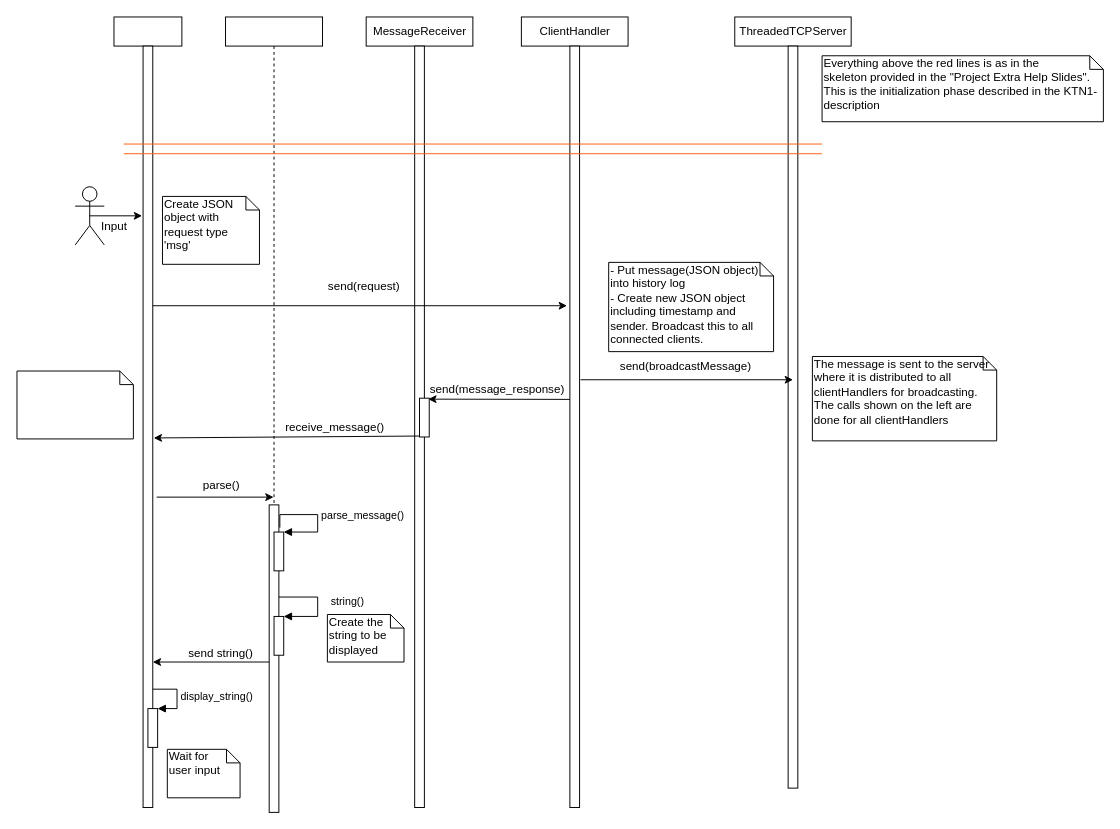
This 1120x829 diagram has some shape labels left out. The shapes that lost their labels are listed below. From the top down, each one's box as (x1, y1, x2, y2) in pixels, then its label:
(113, 16, 182, 46): Client
(74, 186, 104, 245): User
(16, 370, 133, 439): After receiving the message, it is sent to MessageParser for "translation"
(225, 16, 323, 812): MessageParser
